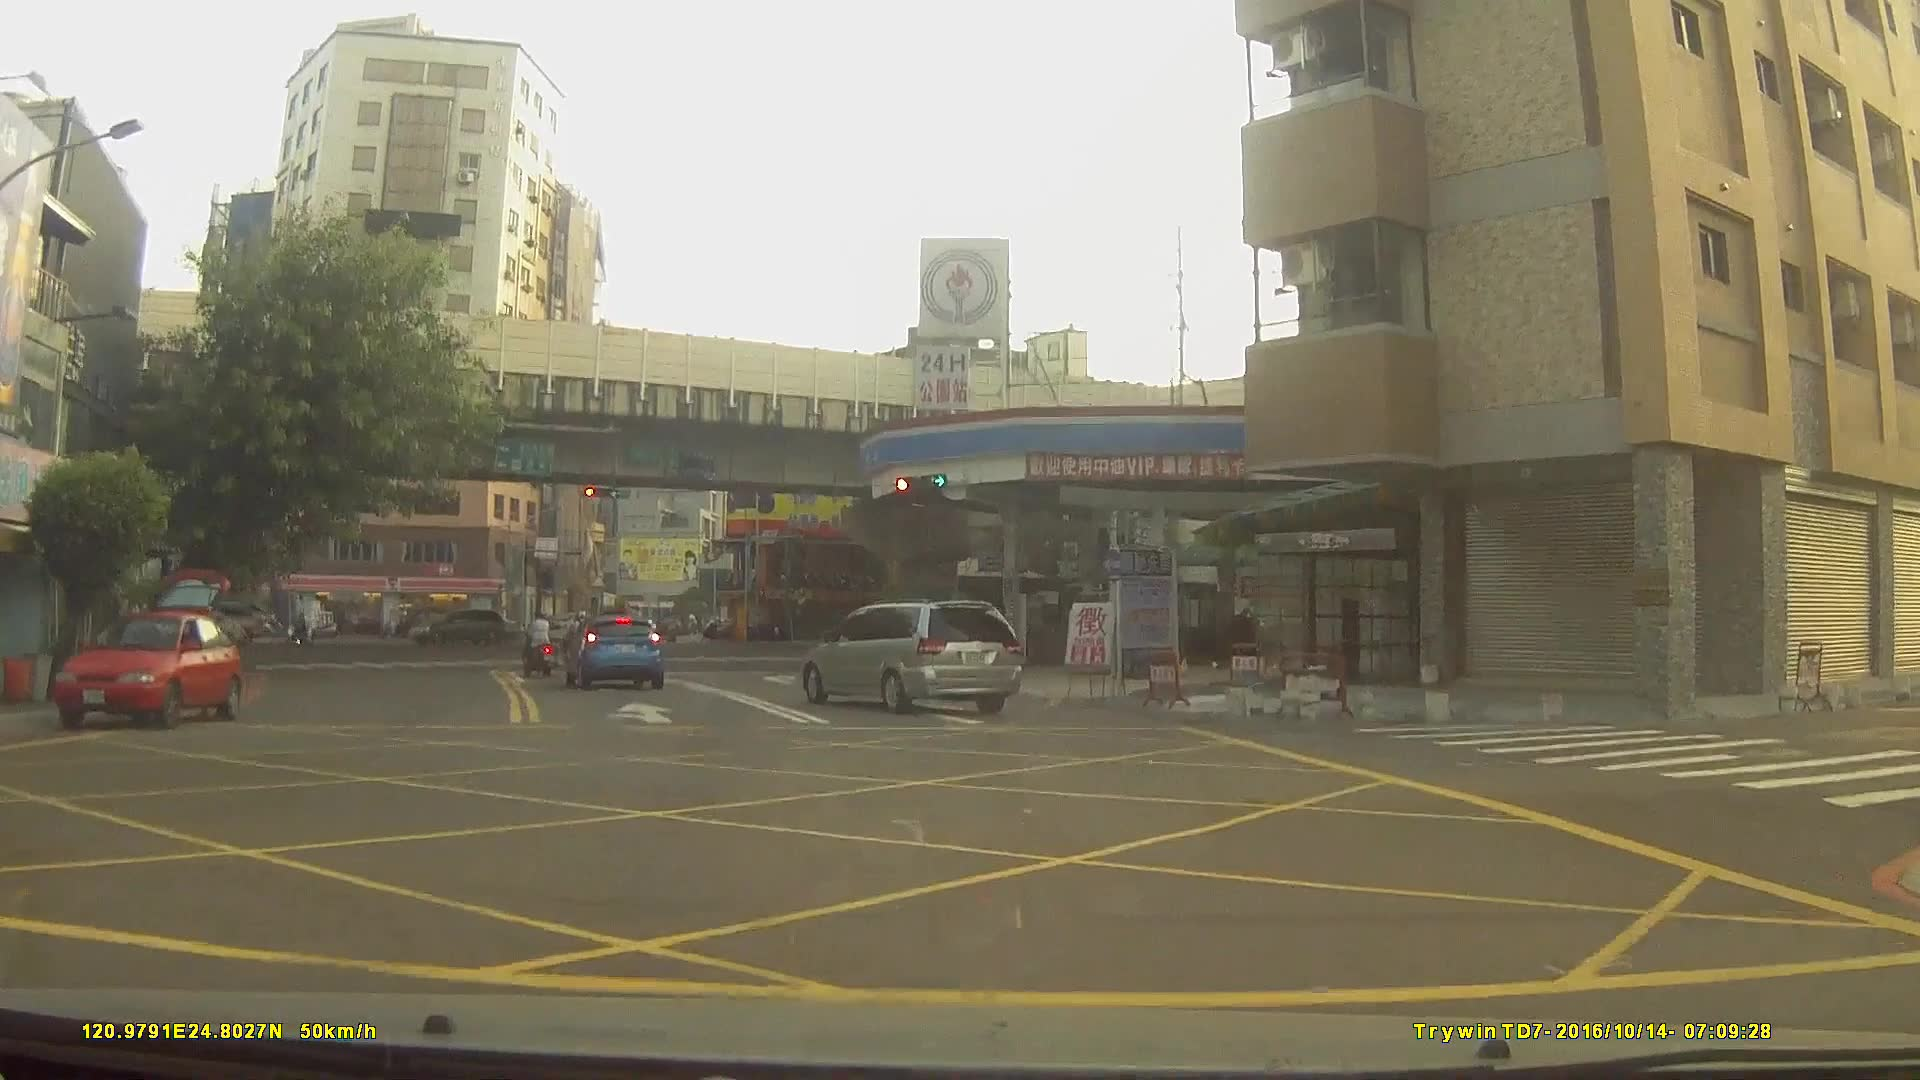rider: (521, 610, 557, 676), (285, 613, 315, 650)
vehicle: (805, 596, 1024, 713), (50, 606, 244, 730), (560, 617, 663, 694), (407, 608, 509, 646), (535, 604, 614, 640)
